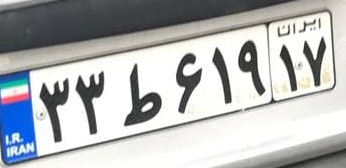character: (115, 60, 167, 130), (35, 74, 75, 149), (72, 67, 112, 139), (167, 50, 206, 118), (233, 34, 272, 100), (204, 43, 239, 108), (298, 35, 334, 90), (271, 42, 300, 95)
